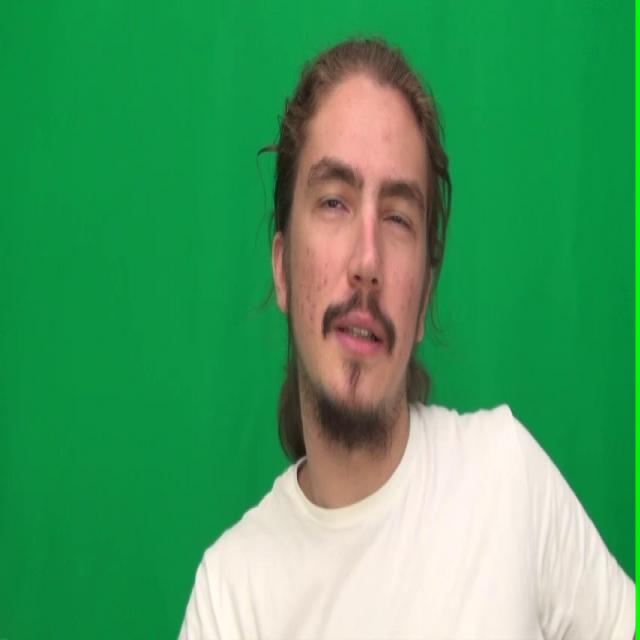Engaged: (288, 60, 427, 417)
